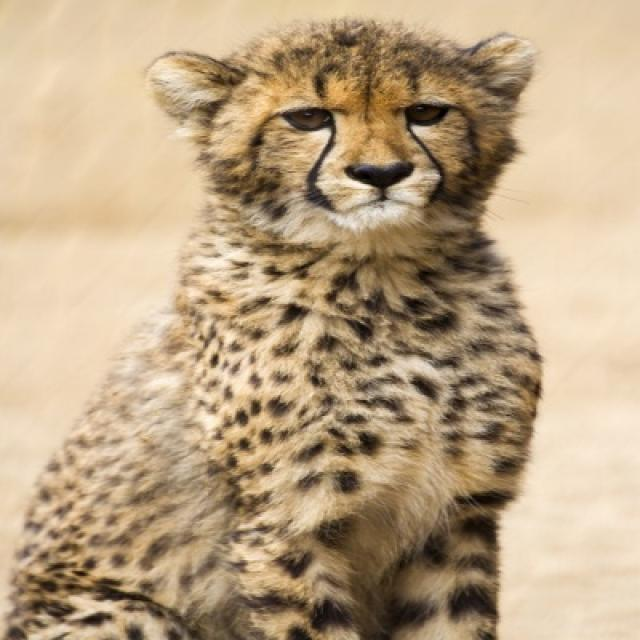Cheetah: (0, 18, 544, 638)
